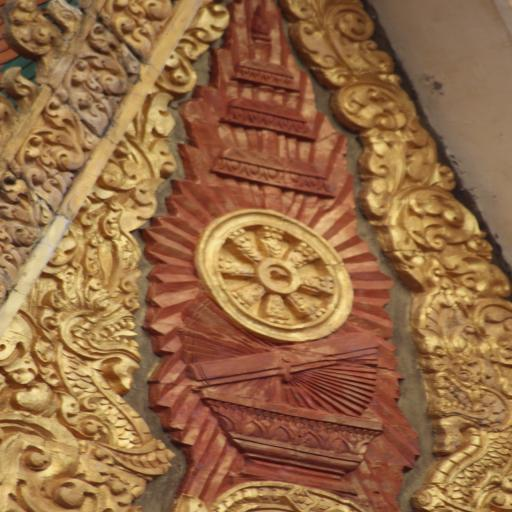la: (394, 248, 512, 360), (38, 180, 166, 282), (297, 0, 403, 86), (365, 130, 451, 214), (380, 194, 482, 251), (136, 89, 187, 181), (69, 32, 139, 94), (104, 0, 176, 55), (43, 86, 111, 142), (334, 84, 410, 132), (17, 128, 77, 185), (3, 1, 61, 57), (179, 9, 233, 60), (156, 58, 200, 94)
ran: (48, 302, 172, 472), (428, 366, 512, 512)
